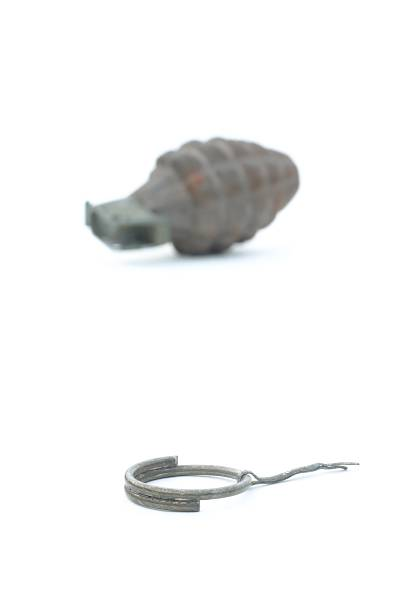e1: (82, 136, 301, 256)
